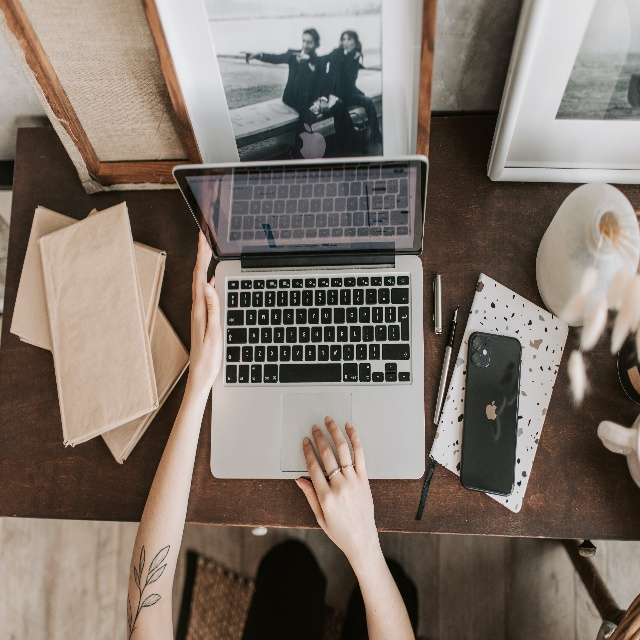Sin_guantes: (293, 416, 377, 545), (187, 227, 223, 390)
